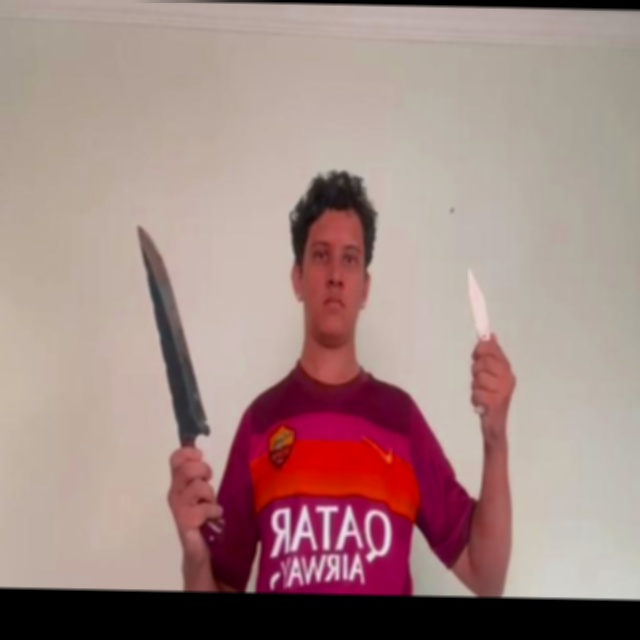Sharp-Object: (133, 221, 215, 439), (466, 267, 492, 340)
